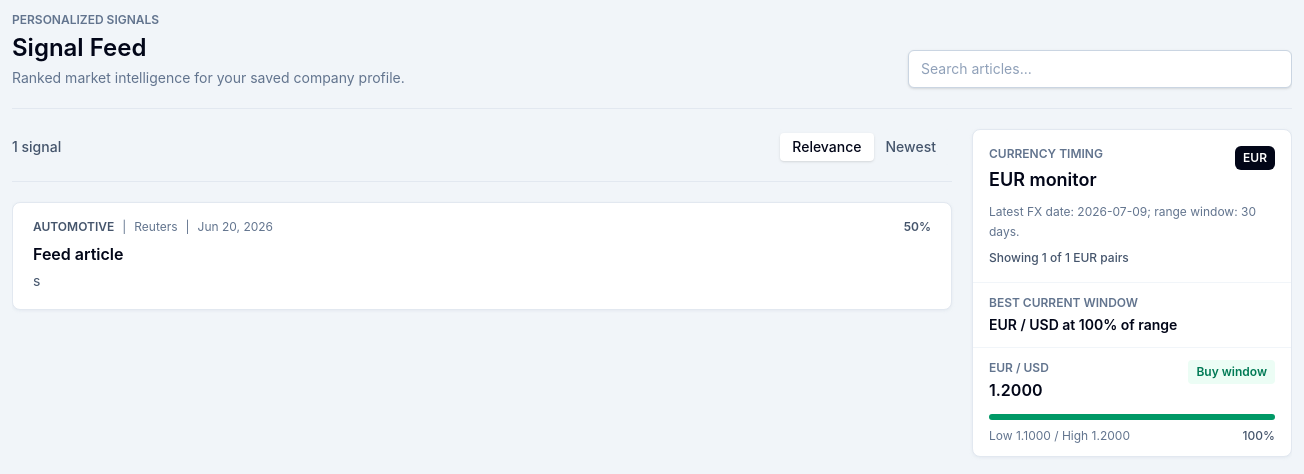
it: FeedView › shows a retry control when search fails
This screenshot has width=1304, height=474.
Expected: the heading "Feed article" is shown, [33,244,124,264]
Type "tariff" into the field labelled "Search articles" at (1100, 69), box [908,50,1292,88]
Then press Enter
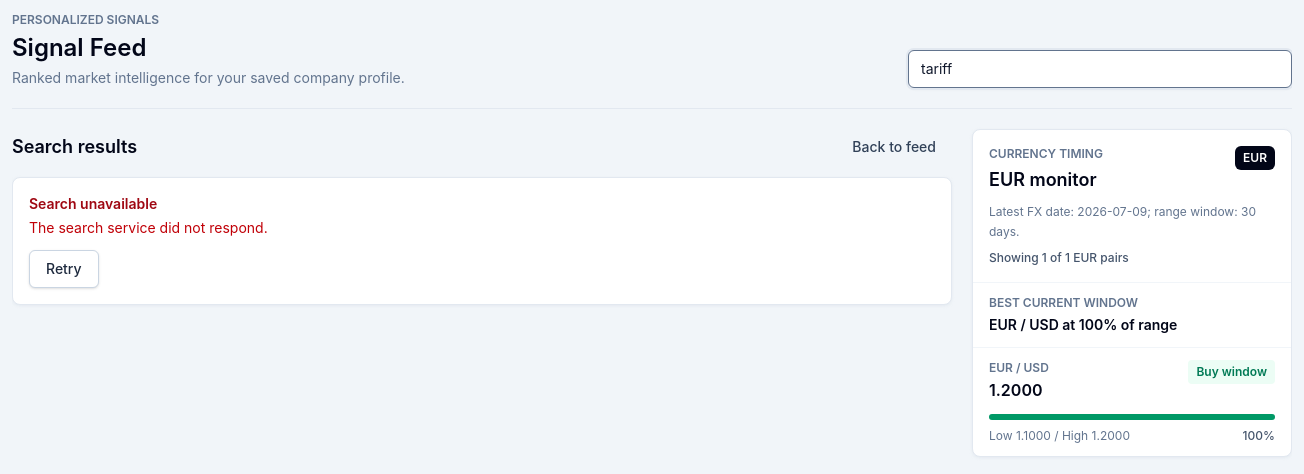
Expected: the text "Search unavailable" is shown, [29,195,157,212]
Expected: the text "The search service did not respond." is shown, [29,219,268,236]
Expected: the button "Retry" is shown, [29,250,99,288]
